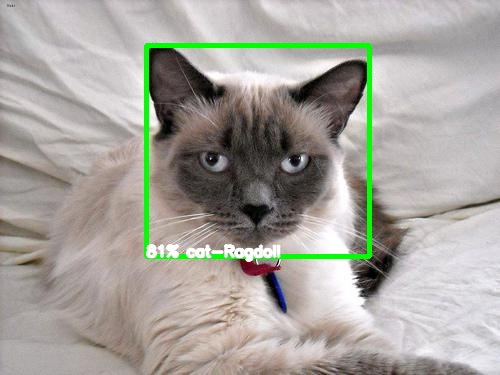cat-Siamese: (146, 44, 369, 253)
